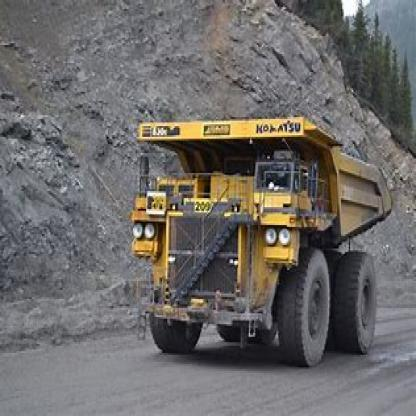dump_truck: (128, 101, 392, 358)
